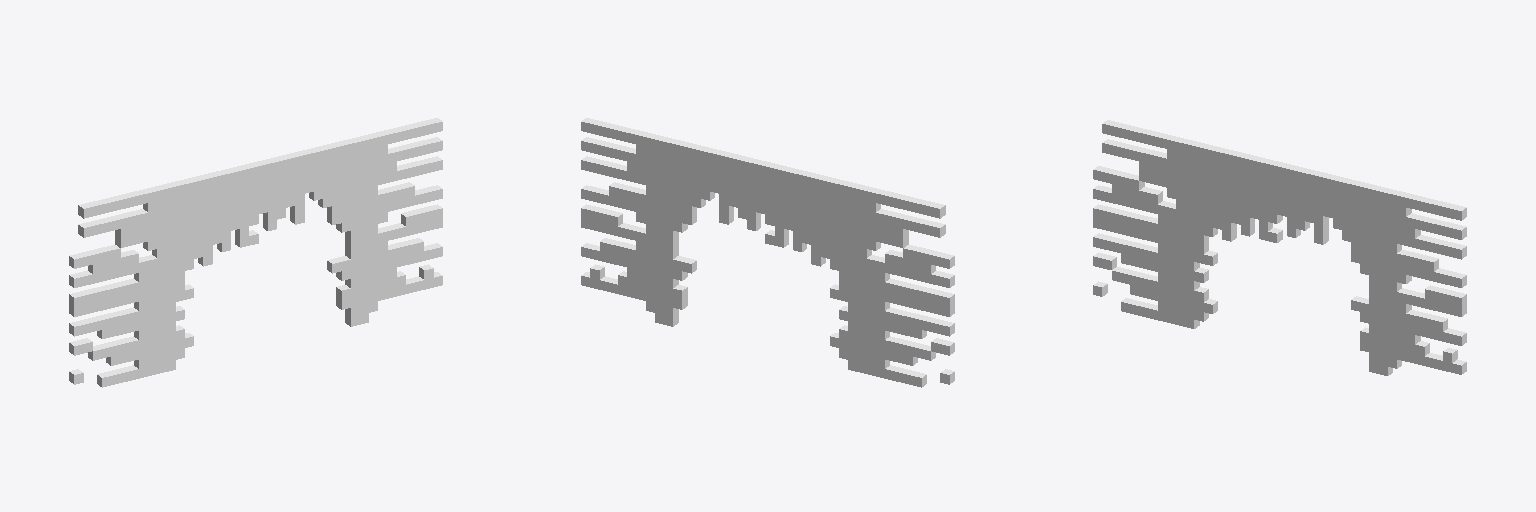
The model's file is NOdoors.obj.
The picture shows the model from 3 angles: view 1: azimuth 30°, elevation 25°; view 2: azimuth 150°, elevation 25°; view 3: azimuth 330°, elevation 25°; orthographic projection.
Visible parts, largest first — view 1: object 1; view 2: object 1; view 3: object 1.
Part boxes in pixels (x1,y1,x2,y2): object 1: (69,118,442,387); object 1: (581,118,954,387); object 1: (1093,120,1466,375).
Size of the model in its own units: 4 by 1.9 by 0.1.